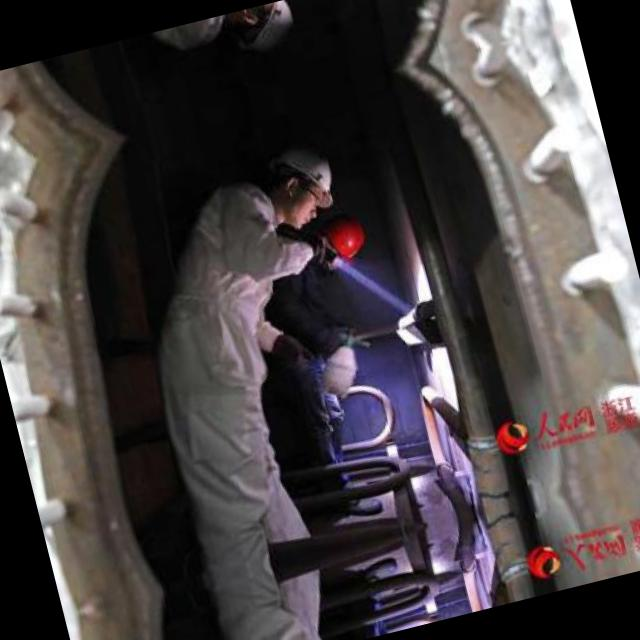helmet: (244, 125, 344, 232), (212, 0, 306, 75), (300, 199, 376, 274)
